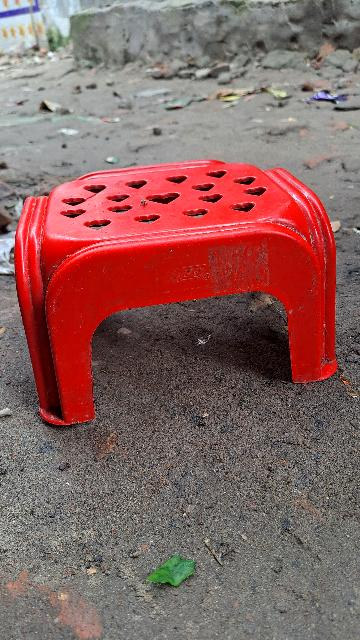hardplastic: (22, 163, 343, 420)
